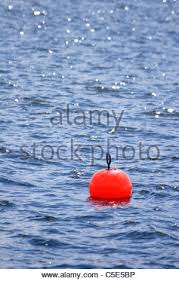buoy: (89, 168, 133, 204)
